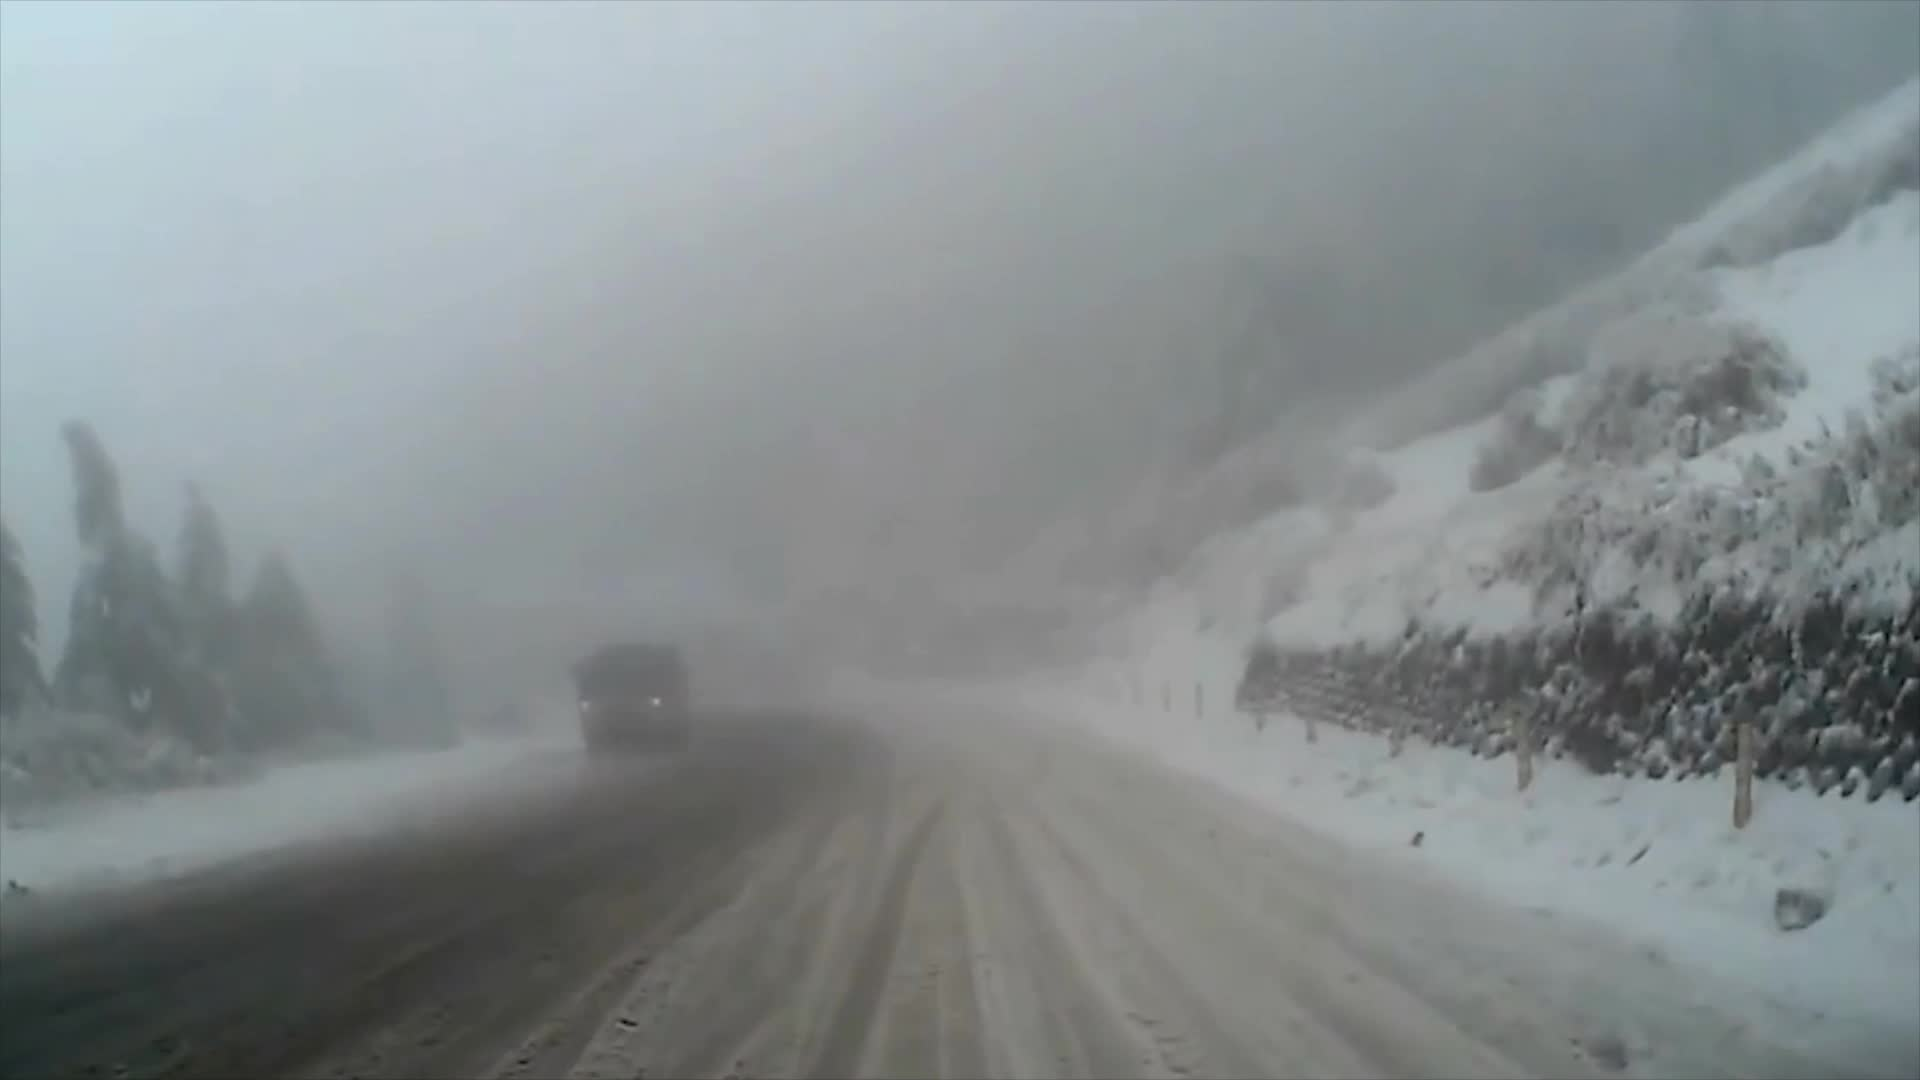vehicle: (564, 632, 690, 741)
